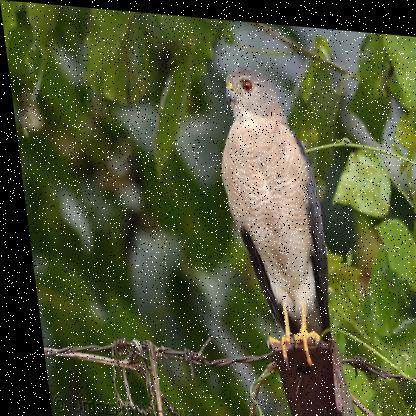Burung: (206, 59, 332, 368)
